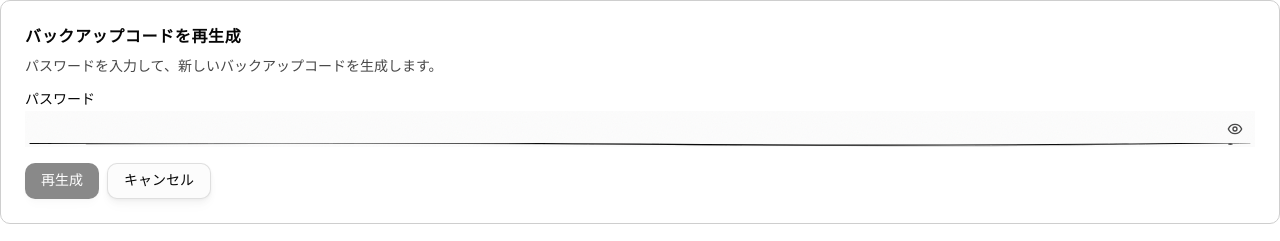
Test: RegenerateBackupCodes › ローディング状態 › 送信中は「生成中...」と表示される
The width and height of the screenshot is (1280, 241).
Type "password123" into the password field labelled "パスワード".
click(640, 129); type("password123")  # box [25,111,1255,147]
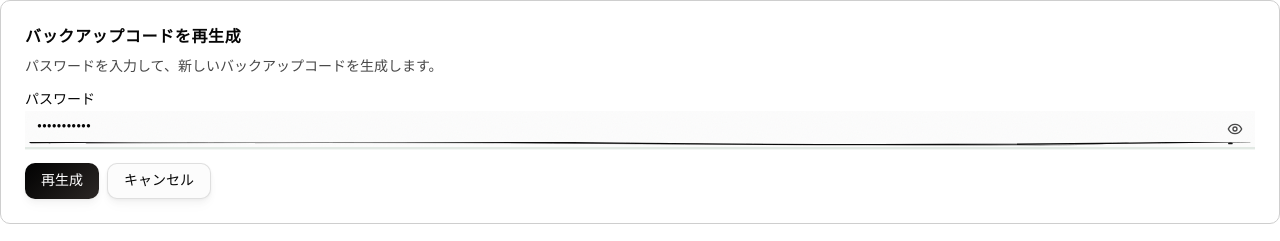
Click the button "再生成".
click(62, 181)  # box [25,163,99,199]
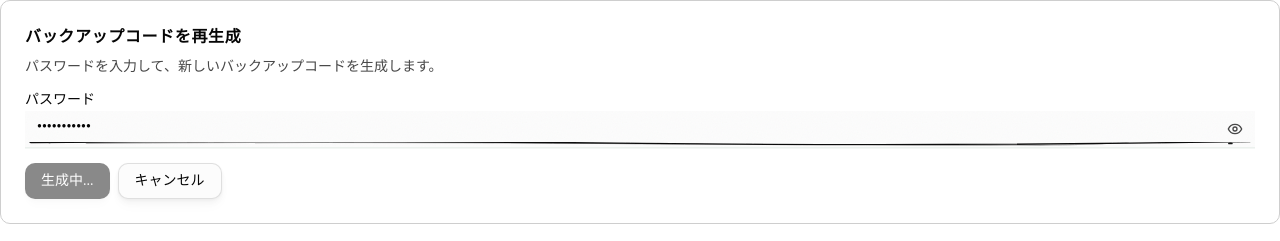
Expected: the button "生成中..." is shown, [25,163,110,199]
